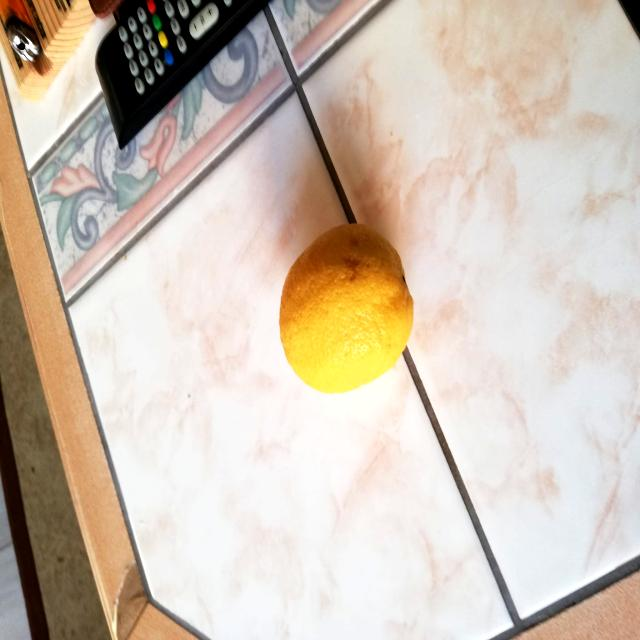lemon: (277, 219, 417, 399)
